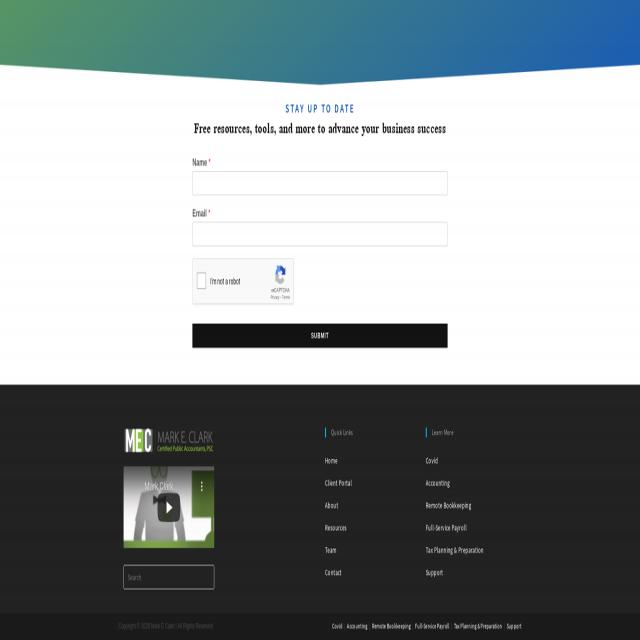button: (124, 467, 213, 548), (192, 324, 448, 348), (124, 428, 214, 454), (158, 493, 179, 522)
field: (192, 171, 448, 195), (192, 222, 448, 246), (124, 565, 214, 589), (197, 274, 206, 288)
